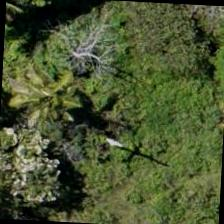Kelapa_Sawit: (2, 52, 97, 147)
